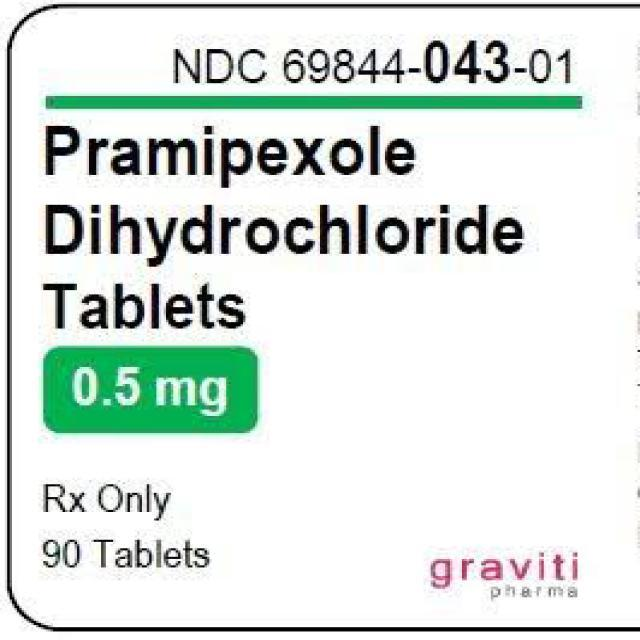drug-name: (31, 114, 544, 266)
